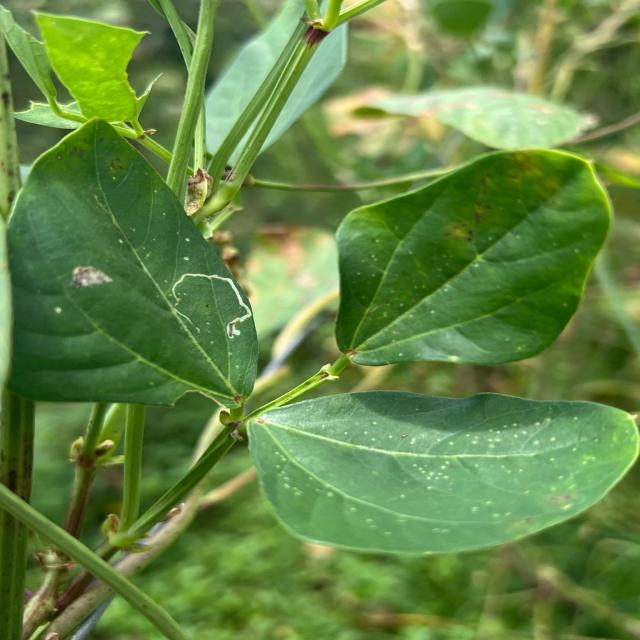sitaw-aphid-high: (8, 121, 258, 408), (249, 391, 640, 553), (335, 149, 611, 366)
